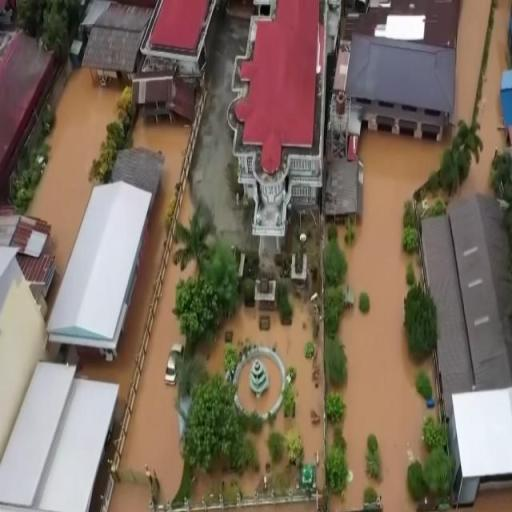flood: (344, 130, 449, 512), (77, 118, 190, 416), (207, 294, 324, 494), (109, 258, 194, 512), (27, 68, 120, 296), (458, 0, 512, 198), (456, 0, 491, 120), (237, 356, 282, 415), (193, 470, 262, 500), (457, 482, 512, 512), (180, 192, 192, 222)
house: (44, 145, 164, 354), (224, 0, 330, 211), (0, 359, 130, 512), (417, 192, 512, 393), (340, 10, 470, 152), (0, 242, 50, 464), (3, 18, 56, 224), (134, 2, 220, 120), (448, 372, 512, 508)
